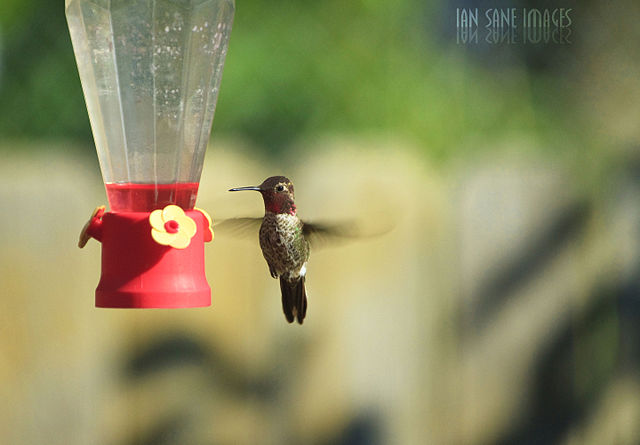calypte anna: (208, 175, 399, 323)
